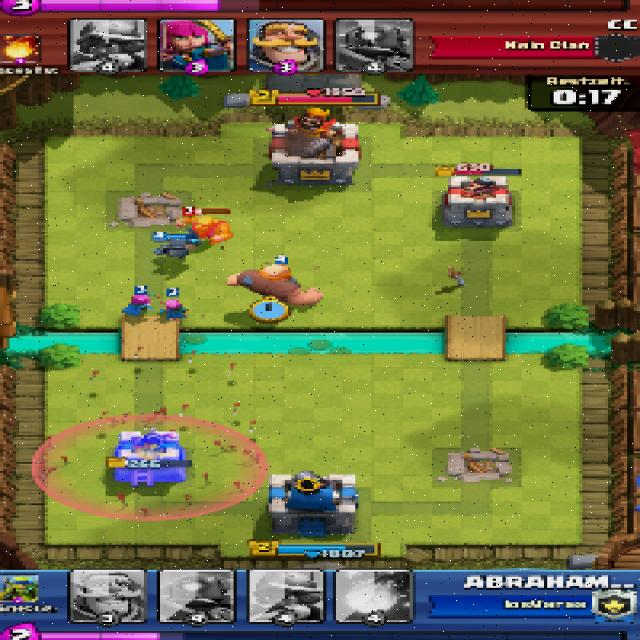Enemy-Archer: (118, 294, 150, 317), (159, 297, 188, 319)
Enemy-Arrow: (35, 412, 267, 520)
Player-Giant: (226, 265, 324, 307)
Player-GoblinCage: (175, 213, 234, 242)
Player-MiniPEKKA: (155, 236, 201, 257)
